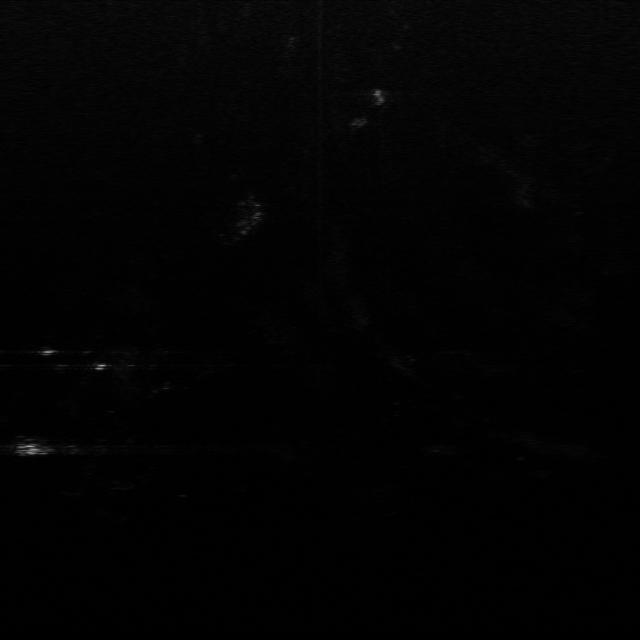rov: (11, 438, 52, 462)
